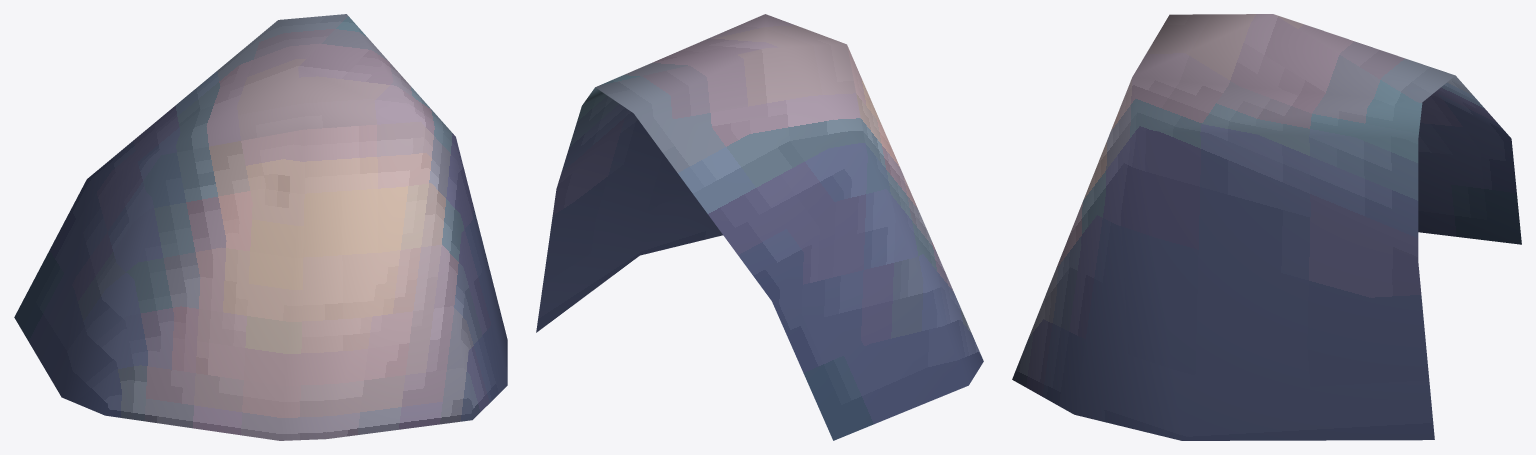
The model's file is fg_stoneB.dae.
The picture shows the model from 3 angles, left to right: view 1: azimuth 30°, elevation 25°; view 2: azimuth 150°, elevation 25°; view 3: azimuth 270°, elevation 25°; orthographic projection. The views are drawn at different scales.
Visible parts, largest first — view 1: fg_stoneB; view 2: fg_stoneB; view 3: fg_stoneB.
Part boxes in pixels (box(x1,y1,x2,y2)): fg_stoneB: box(14, 14, 507, 440); fg_stoneB: box(536, 14, 983, 440); fg_stoneB: box(1012, 14, 1521, 440).
Bounding box in the file's own units: 30.9 × 21.41 × 29.93.
1 material, 1 textured.
